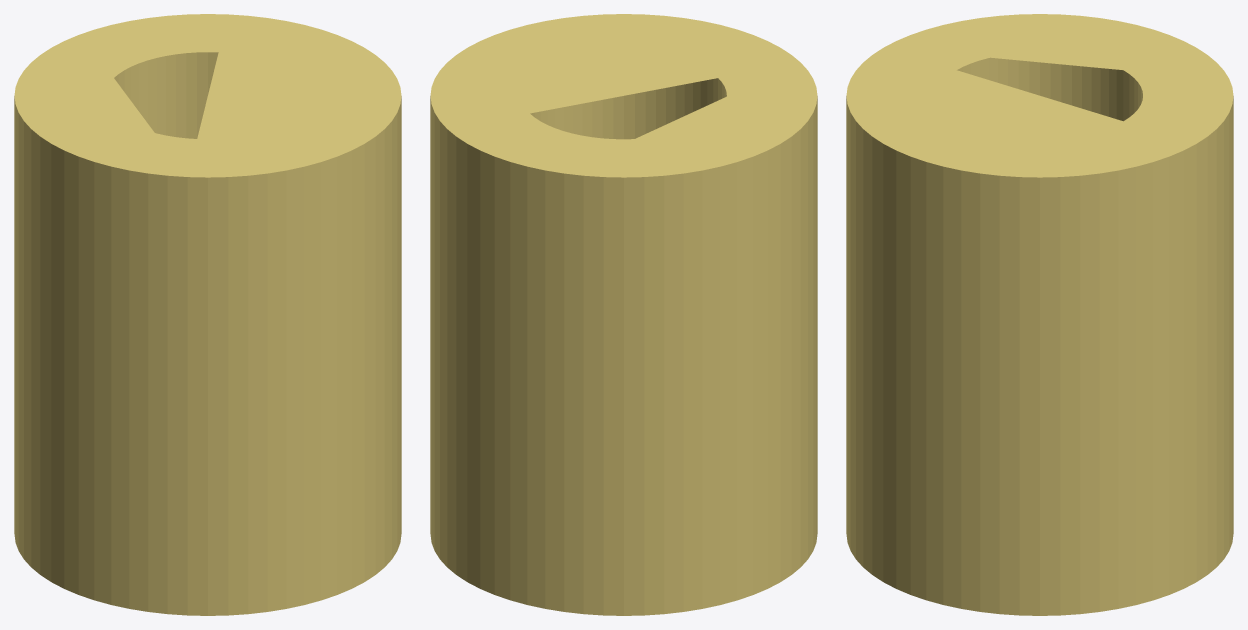
File: candle.fbx
3 views of the same model, side by side, from view 1: azimuth 30°, elevation 25°; view 2: azimuth 150°, elevation 25°; view 3: azimuth 270°, elevation 25° (orthographic).
Parts seen in each view (by area): view 1: Cylinder.001; view 2: Cylinder.001; view 3: Cylinder.001.
Part boxes in pixels (<box>): Cylinder.001: <box>14,14,401,615</box>; Cylinder.001: <box>430,14,817,615</box>; Cylinder.001: <box>846,14,1233,615</box>.
Bounding box in the file's own units: 160 × 200 × 160.
